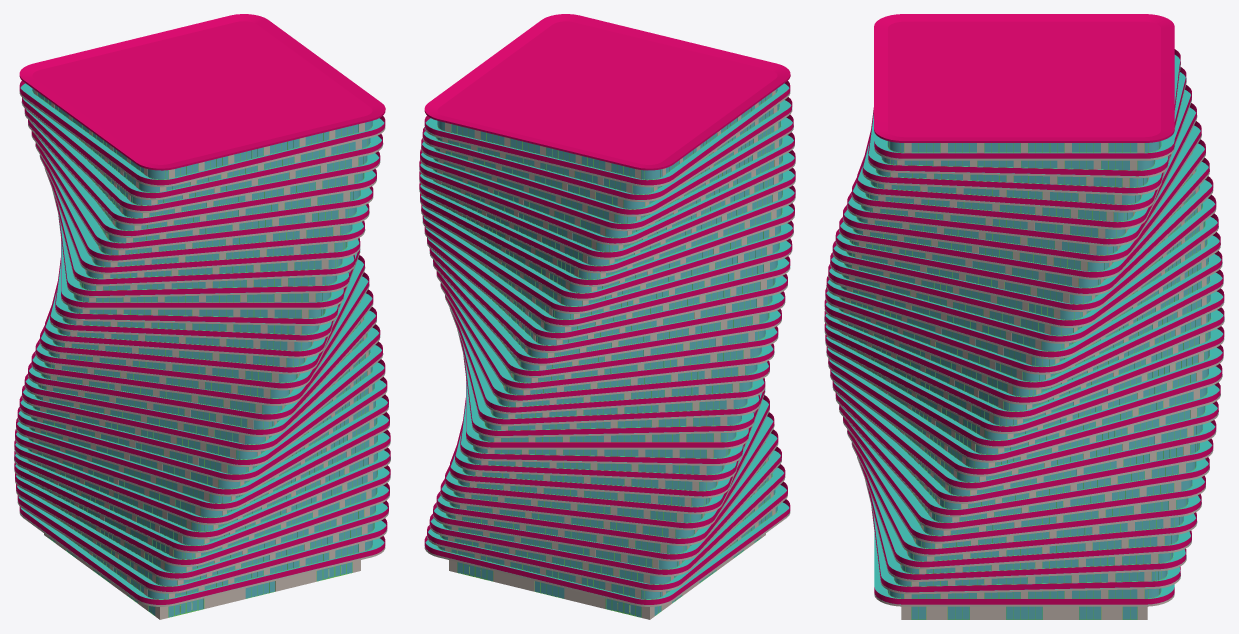
File: Building_7_1.FBX
3 views of the same model, side by side, from view 1: azimuth 30°, elevation 25°; view 2: azimuth 150°, elevation 25°; view 3: azimuth 270°, elevation 25° (orthographic). The views are drawn at different scales.
Visible parts, largest first — view 1: B-7-F1C_LOD0; view 2: B-7-F1C_LOD0; view 3: B-7-F1C_LOD0.
Boxes of the visible parts, bbox=[...] form: B-7-F1C_LOD0: bbox=[14, 14, 390, 619]; B-7-F1C_LOD0: bbox=[419, 14, 795, 619]; B-7-F1C_LOD0: bbox=[824, 14, 1224, 619].
Size of what is drawn, in the model's own units: 7319 by 9899 by 7319.
